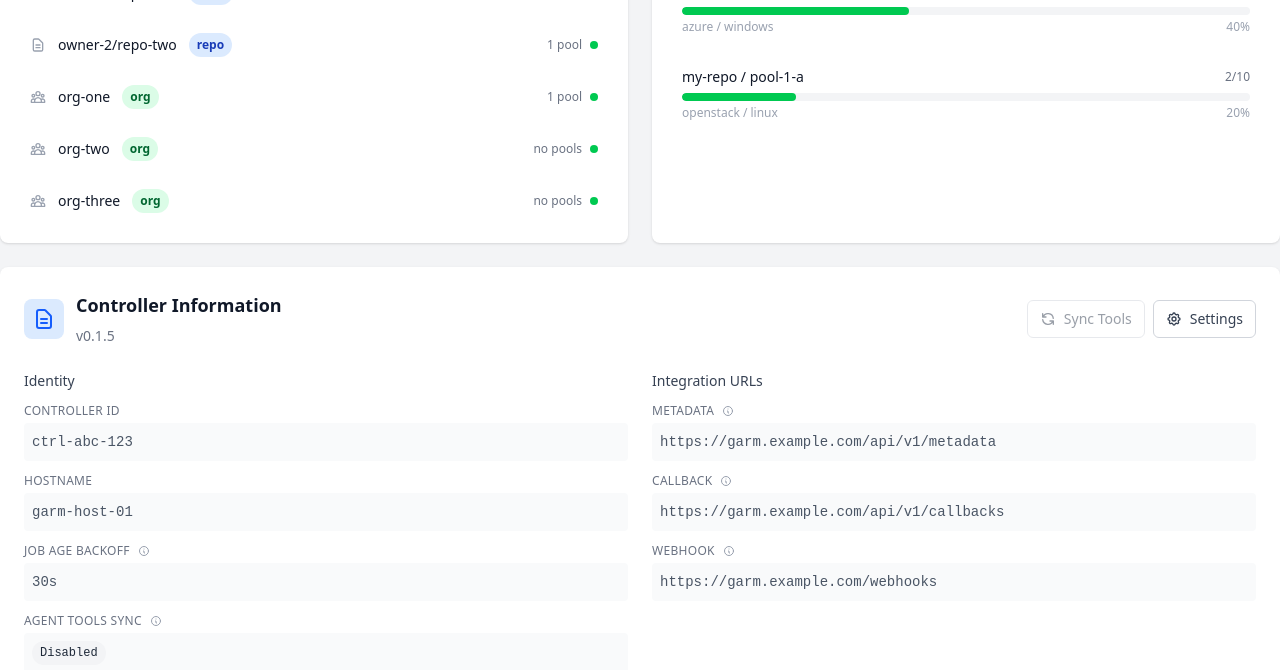
Scenario: Dashboard Page Integration Tests › Controller Info Card › should reject an invalid custom agent version in the settings form
This screenshot has width=1280, height=670.
(page scrolled)
Click the button "Settings" at (1204, 319), box [1153,300,1256,338]
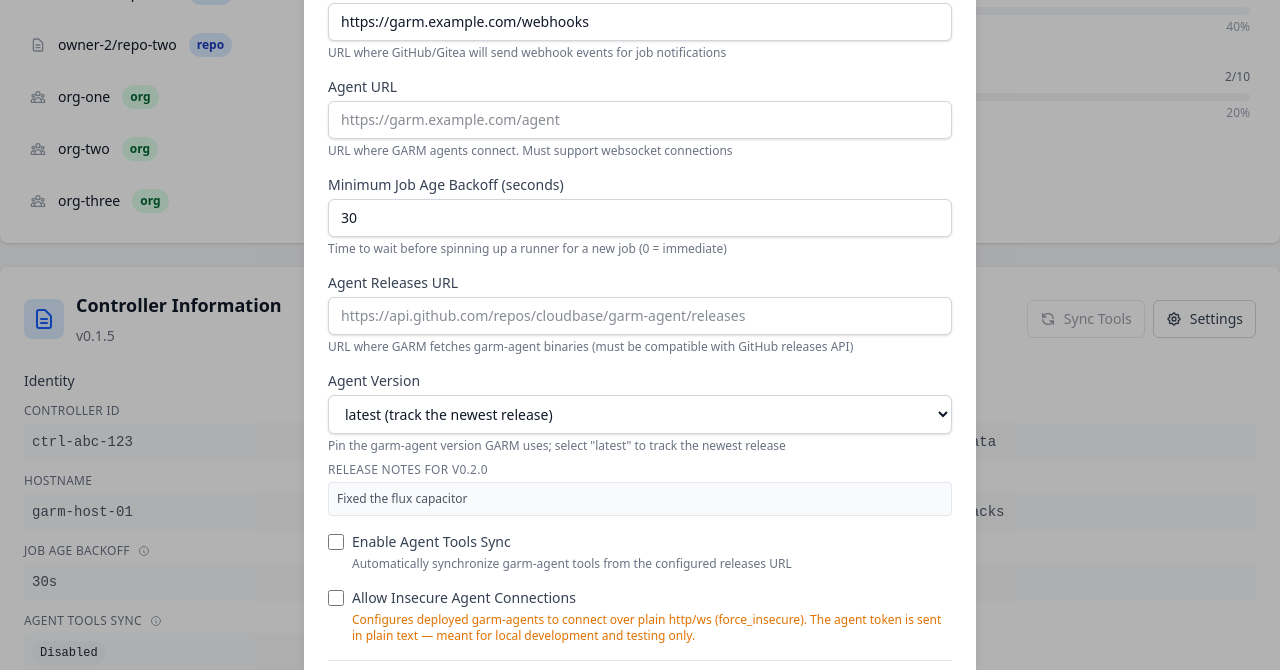
Result: the dropdown with id "garmAgentVersion" is shown
Select "Custom version..." in the dropdown with id "garmAgentVersion" at (640, 414), box [328,395,952,434]
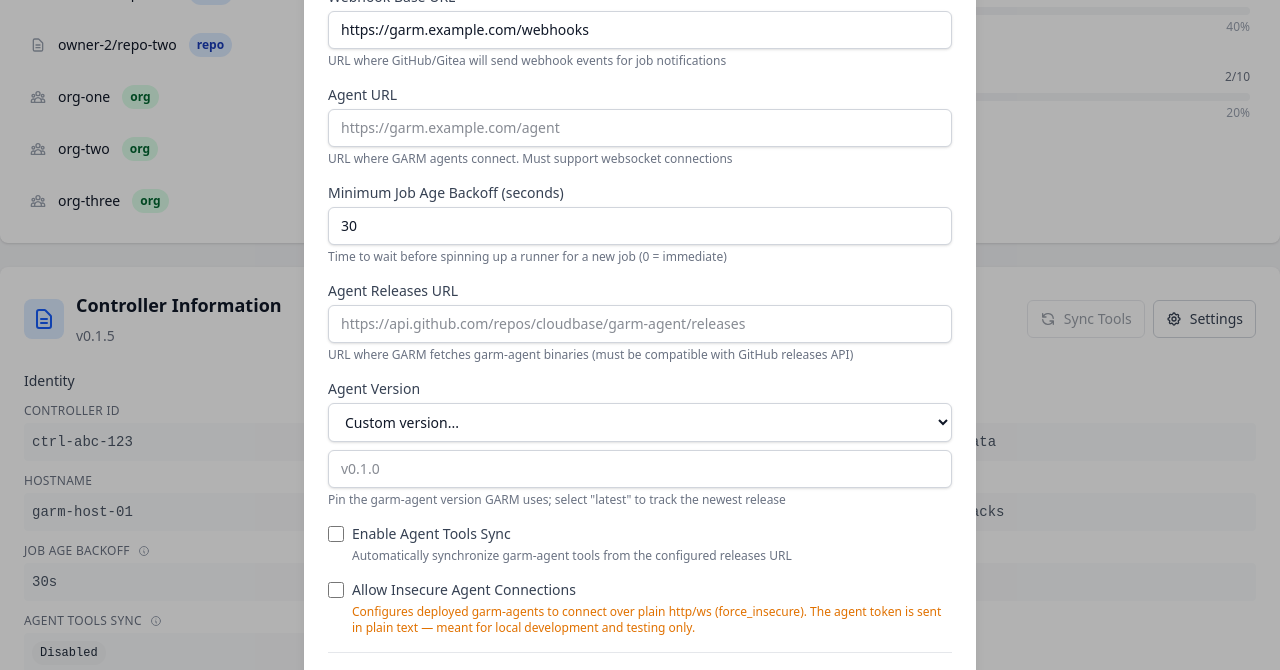
Result: the field with id "garmAgentVersionCustom" is shown
Type "not-a-version" into the field with id "garmAgentVersionCustom" at (640, 469), box [328,450,952,488]
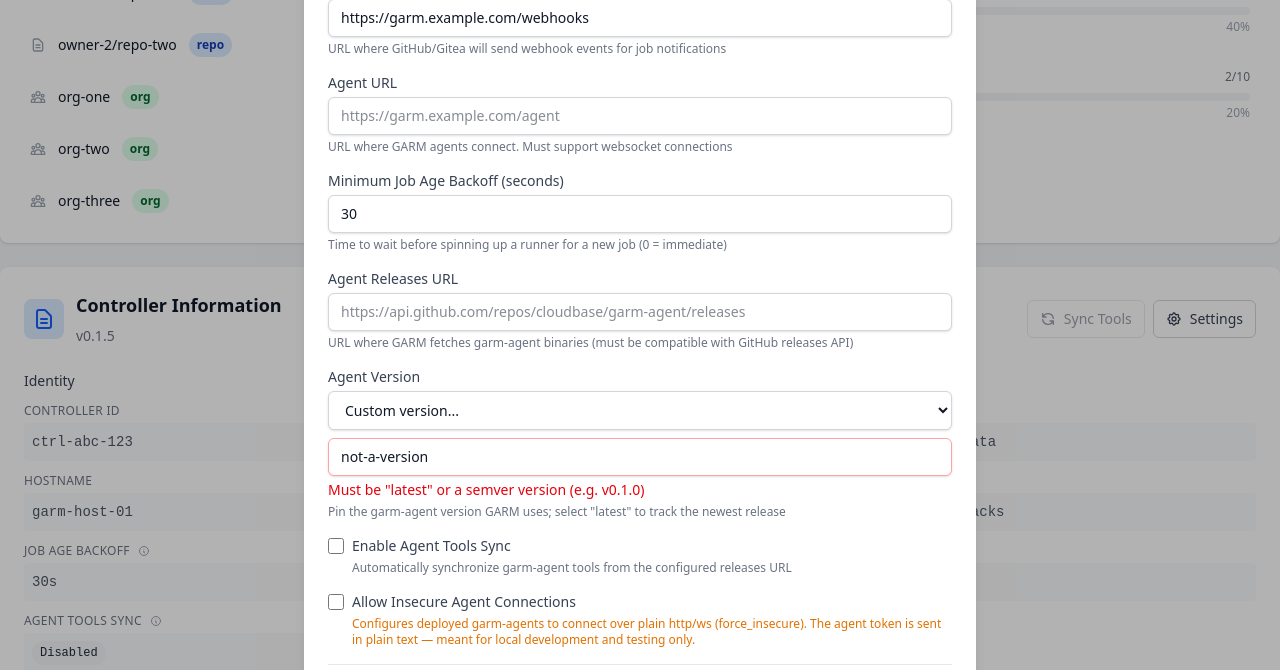
Result: the text "Must be \"latest\" or a semver version (e.g. v0.1.0)" is shown at [328,480,644,499]
Note: A valid pinned version clears the error and re-enables submit.
Replace the text in the field with id "garmAgentVersionCustom" with "v1.2.3" at (640, 457), box [328,438,952,476]
(page scrolled)
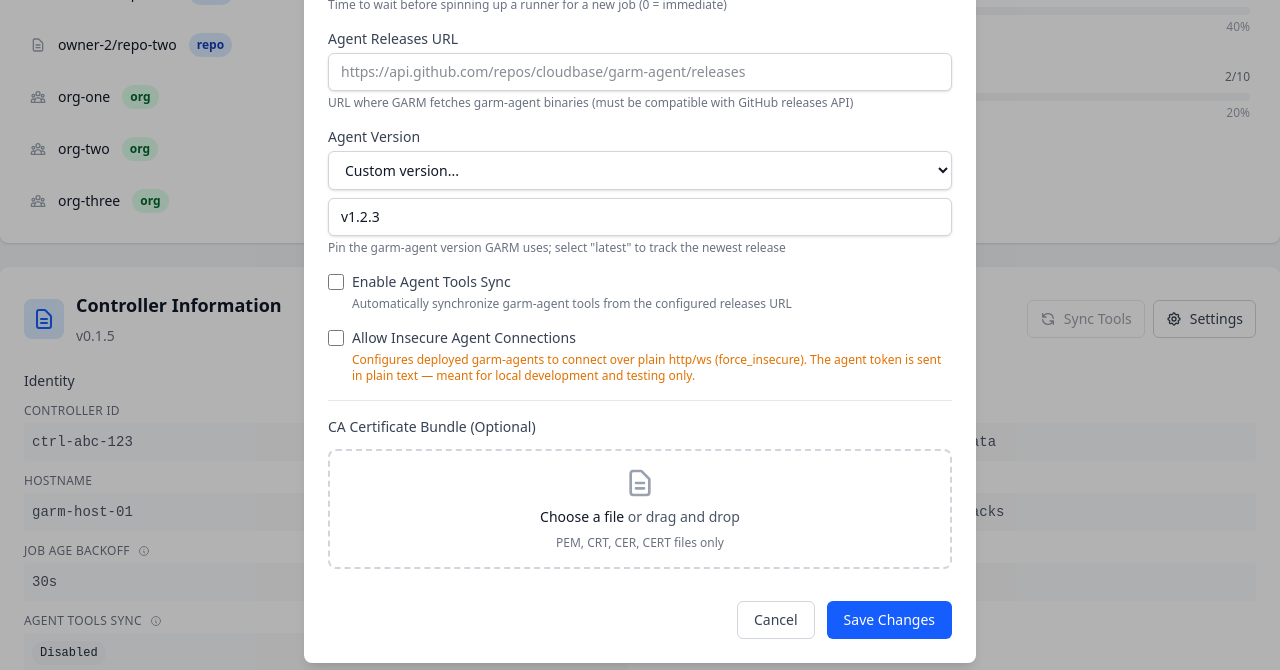
Result: the text "Must be \"latest\" or a semver version (e.g. v0.1.0)" is gone
Result: the button "Save Changes" is enabled at [827,601,952,639]
